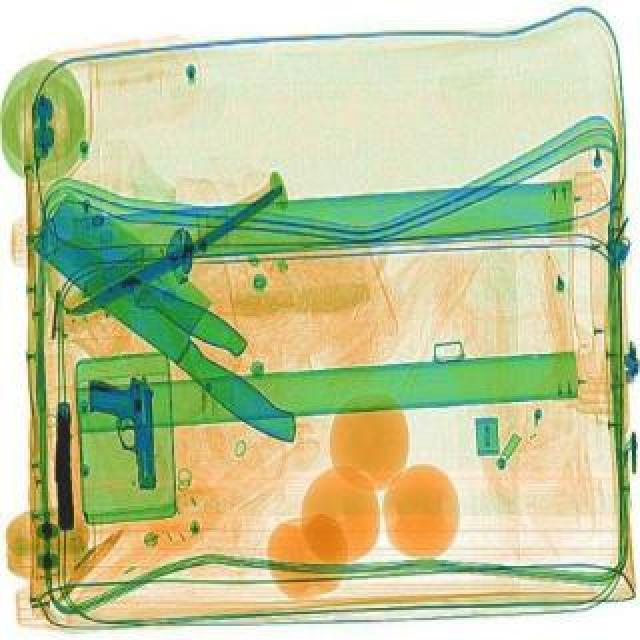gun: (86, 374, 158, 488), (50, 404, 76, 530)
knife: (18, 184, 334, 458), (26, 214, 254, 362), (60, 184, 292, 322)
